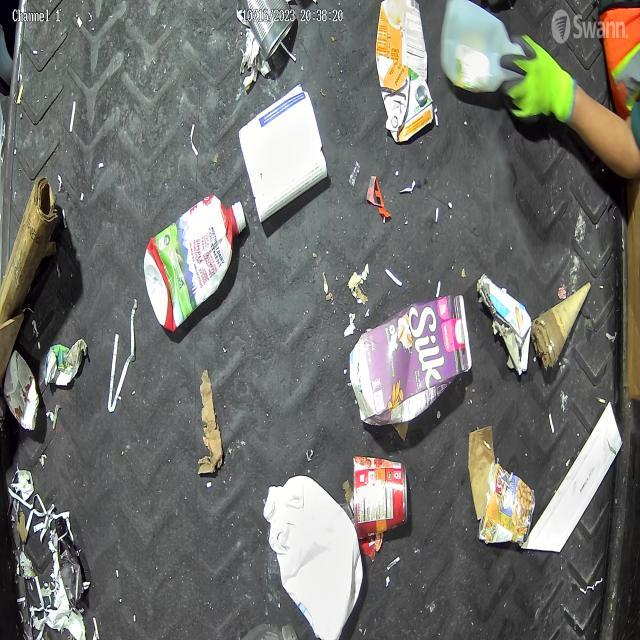can: (344, 448, 418, 548), (237, 0, 306, 71)
milk_jug: (260, 465, 372, 640), (440, 0, 528, 101)
